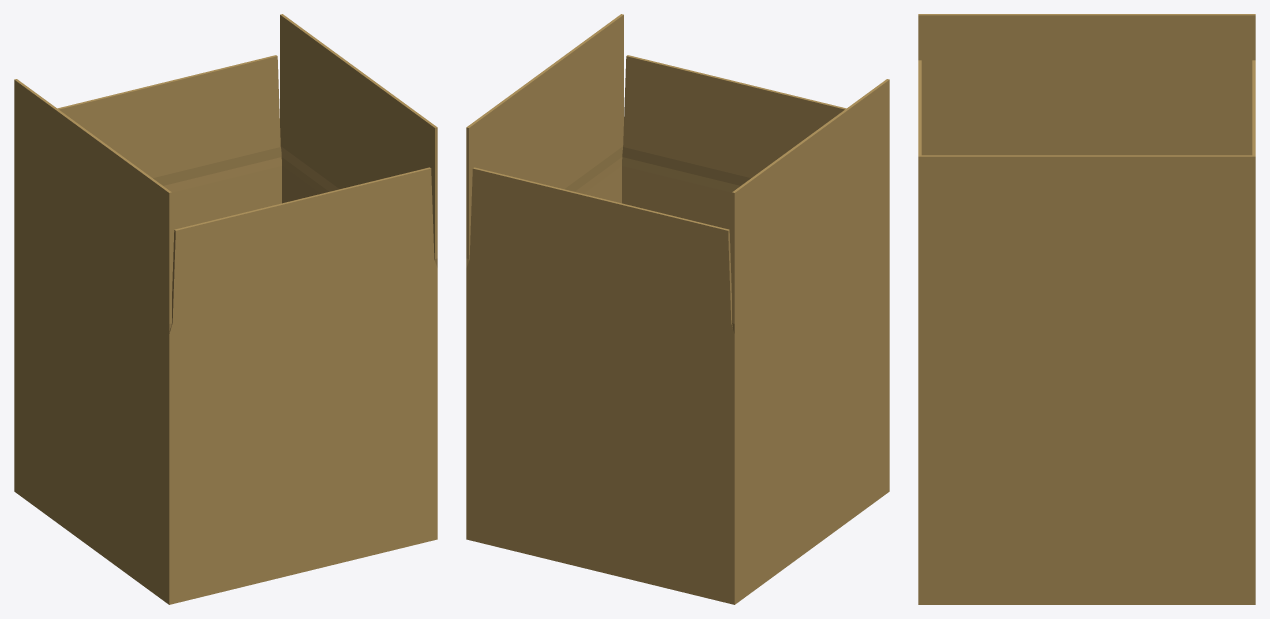
3 views of the same model, side by side, from view 1: azimuth 30°, elevation 25°; view 2: azimuth 150°, elevation 25°; view 3: azimuth 270°, elevation 25° (orthographic). The views are drawn at different scales.
Parts seen in each view (by area): view 1: Box; view 2: Box; view 3: Box.
Boxes of the visible parts, x1,y1,x2,y2 form: Box: [14, 14, 437, 604]; Box: [466, 14, 889, 604]; Box: [918, 14, 1255, 604].
Bounding box in the file's own units: 0.4 × 0.5863 × 0.4.
